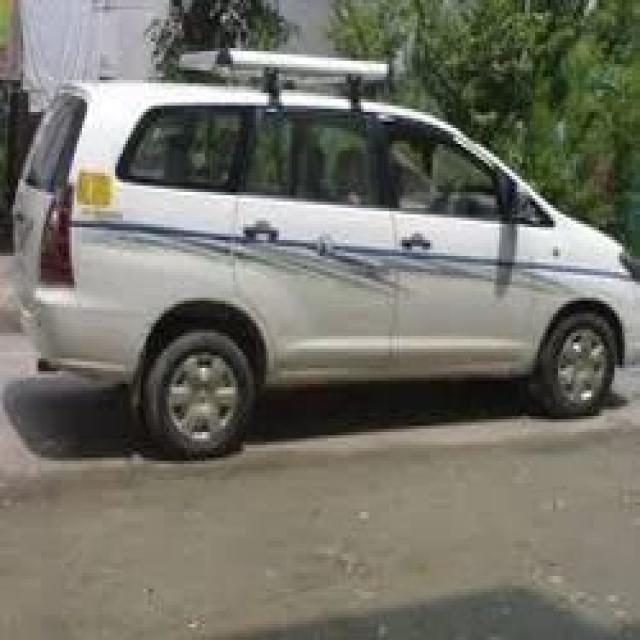light_vehicle: (9, 69, 639, 459)
